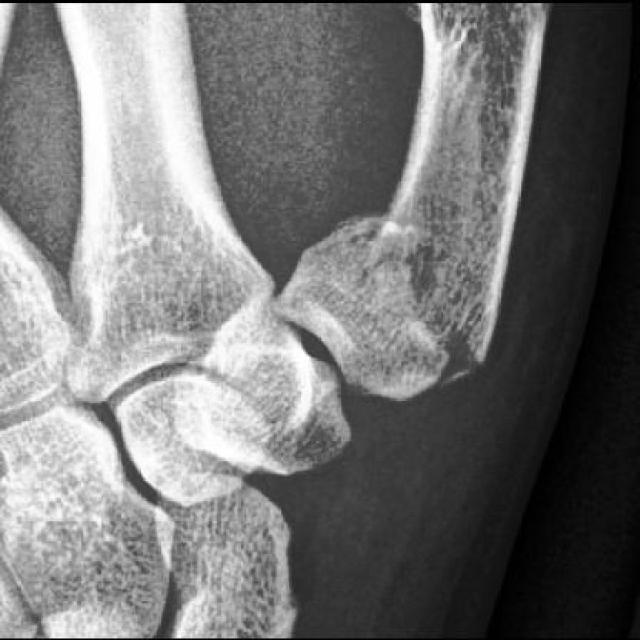Fracture: (317, 195, 517, 400)
